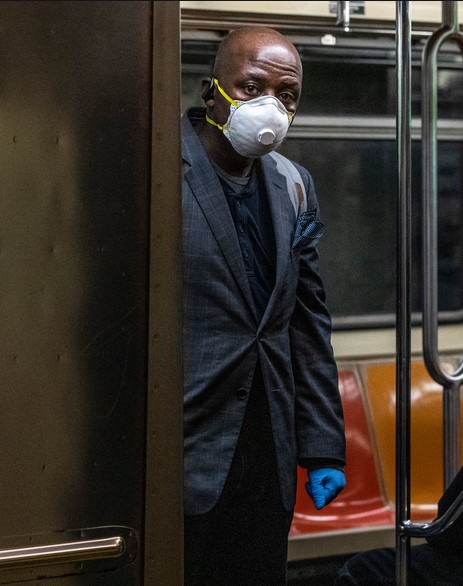face_with_mask: (208, 23, 307, 164)
